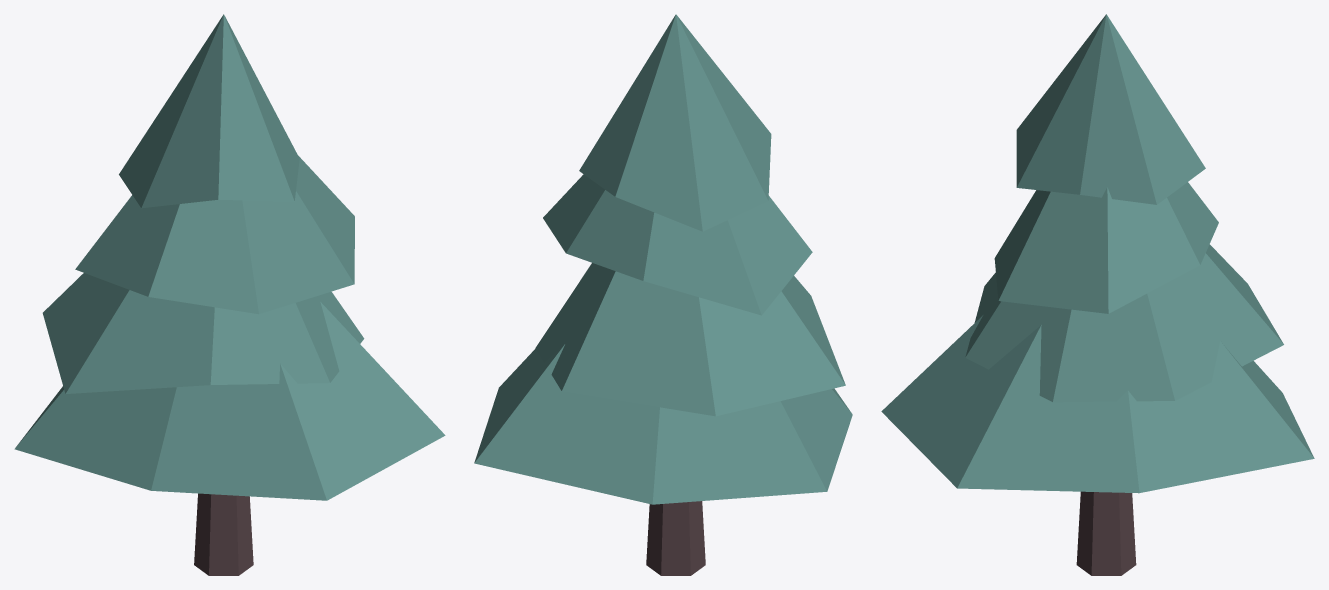
File: pine_03.glb
3 renders of one model, left to right at view 1: azimuth 30°, elevation 25°; view 2: azimuth 150°, elevation 25°; view 3: azimuth 270°, elevation 25°, orthographic.
Parts seen in each view (by area): view 1: pine_03; view 2: pine_03; view 3: pine_03.
Part boxes in pixels (<box>): pine_03: <box>14,14,445,575</box>; pine_03: <box>474,14,852,575</box>; pine_03: <box>881,14,1314,575</box>.
Size of the model in its own units: 3.7 by 5.71 by 4.07.
